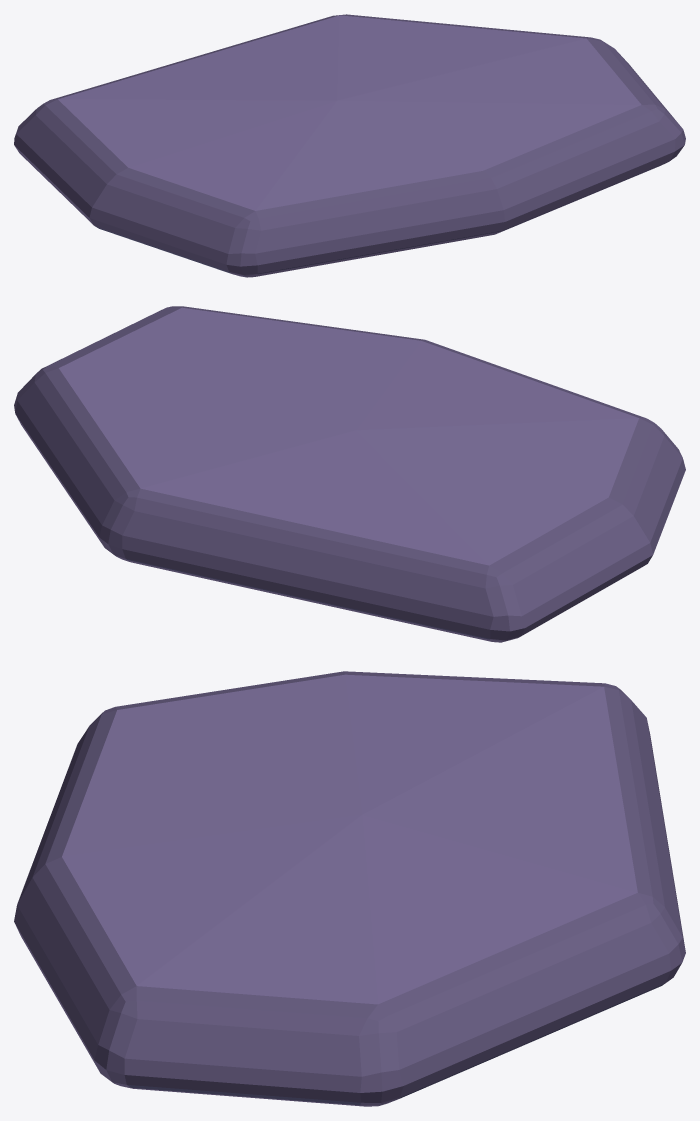
Rendered from flat_shard_04.glb.
3 views of the same model, one above another, from view 1: azimuth 30°, elevation 25°; view 2: azimuth 150°, elevation 25°; view 3: azimuth 270°, elevation 25° (orthographic). The views are drawn at different scales.
Parts seen in each view (by area): view 1: flat_shard_04; view 2: flat_shard_04; view 3: flat_shard_04.
Boxes of the visible parts, left/top/right/bottom form: flat_shard_04: left=14, top=14, right=685, bottom=277; flat_shard_04: left=14, top=306, right=685, bottom=642; flat_shard_04: left=14, top=671, right=685, bottom=1106.
Bounding box in the file's own units: 0.4557 × 0.0576 × 0.3268.
